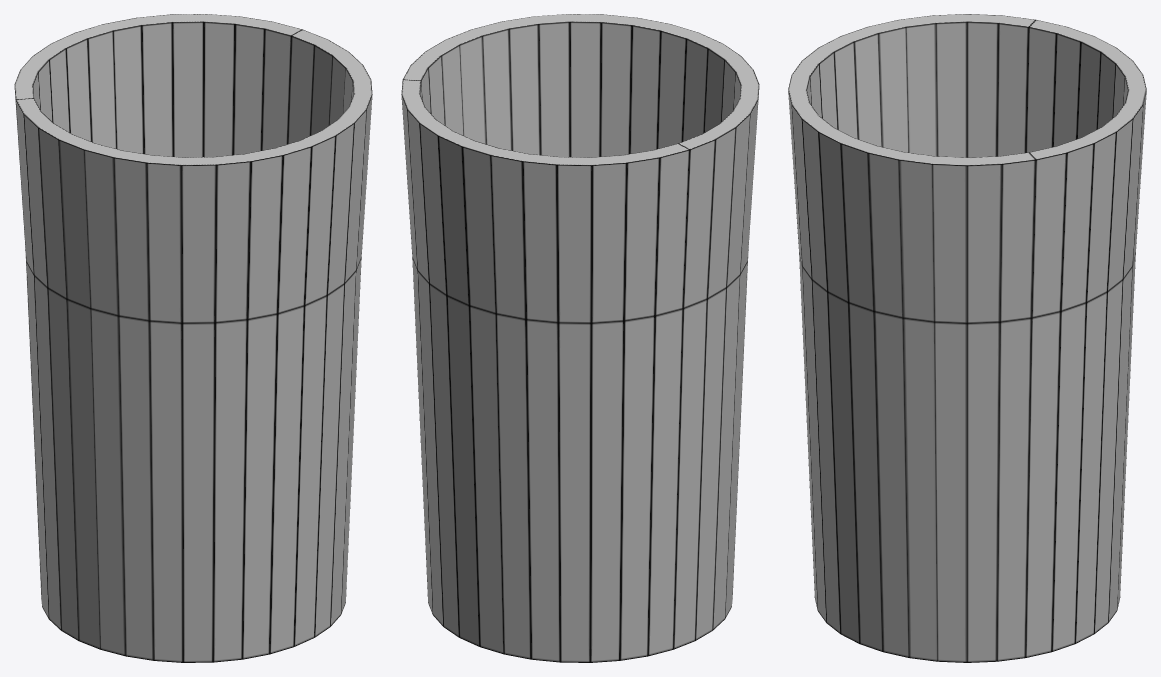
Rendered from juiceCup.obj.
The picture shows the model from 3 angles, left to right: view 1: azimuth 30°, elevation 25°; view 2: azimuth 150°, elevation 25°; view 3: azimuth 270°, elevation 25°; orthographic projection.
Visible parts, largest first — view 1: juiceCup; view 2: juiceCup; view 3: juiceCup.
Boxes of the visible parts, left/top/right/bottom form: juiceCup: left=14, top=14, right=372, bottom=662; juiceCup: left=401, top=14, right=759, bottom=662; juiceCup: left=788, top=14, right=1146, bottom=662.
Bounding box in the file's own units: 2 × 3.13 × 2.
1 material, 1 textured.
